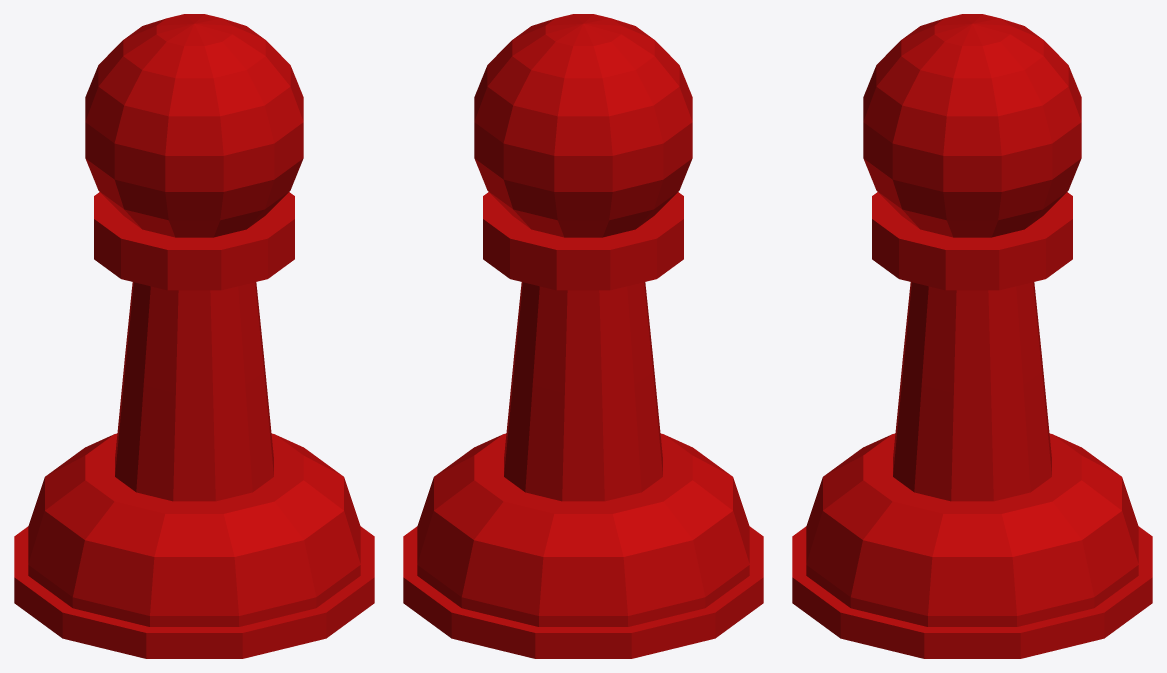
File: red_pown.glb
3 renders of one model, left to right at view 1: azimuth 30°, elevation 25°; view 2: azimuth 150°, elevation 25°; view 3: azimuth 270°, elevation 25°, orthographic.
Parts seen in each view (by area): view 1: bdbbe5d3-7e8a-4ab4-ad6c-9a819e138e8c; view 2: bdbbe5d3-7e8a-4ab4-ad6c-9a819e138e8c; view 3: bdbbe5d3-7e8a-4ab4-ad6c-9a819e138e8c.
Part boxes in pixels (box(x1,y1,x2,y2)): bdbbe5d3-7e8a-4ab4-ad6c-9a819e138e8c: box(14, 14, 374, 658); bdbbe5d3-7e8a-4ab4-ad6c-9a819e138e8c: box(403, 14, 763, 658); bdbbe5d3-7e8a-4ab4-ad6c-9a819e138e8c: box(792, 14, 1152, 658).
Bounding box in the file's own units: 0.1256 × 0.215 × 0.1256.
